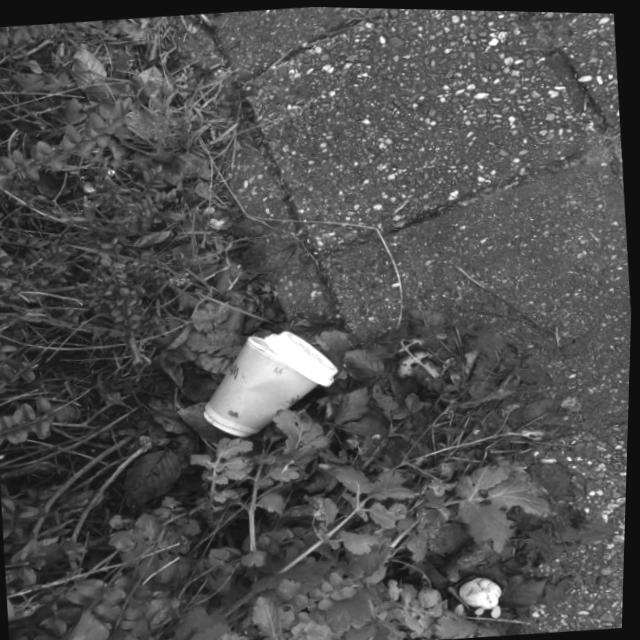Cup: (199, 321, 353, 448)
